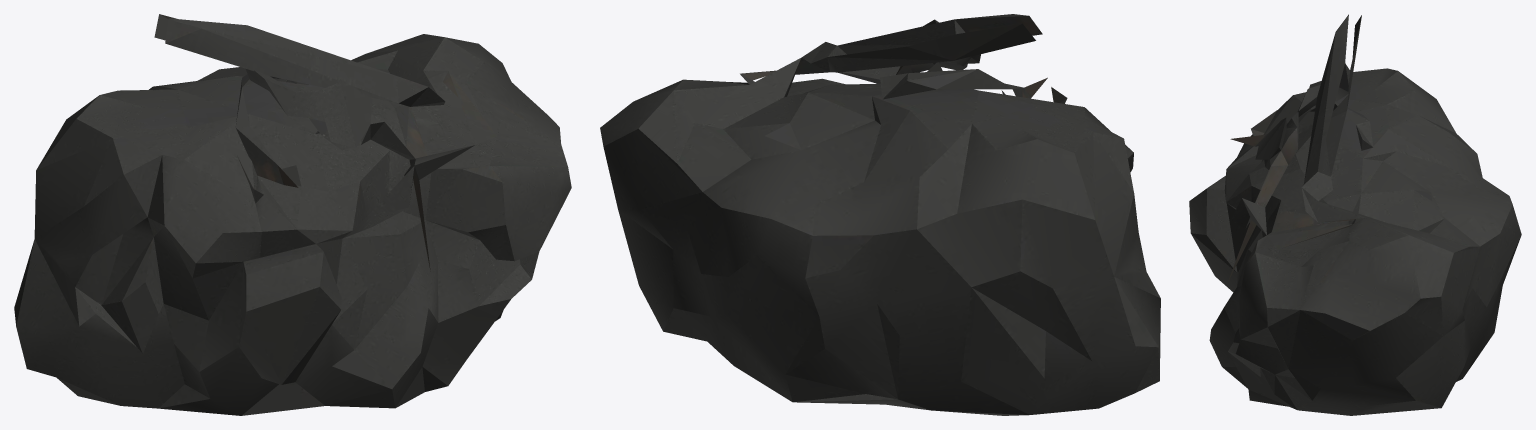
File: debris_rock.glb
3 renders of one model, left to right at view 1: azimuth 30°, elevation 25°; view 2: azimuth 150°, elevation 25°; view 3: azimuth 270°, elevation 25°, orthographic. The views are drawn at different scales.
Size of the model in its own units: 0.5822 by 0.4 by 0.3919.
Materials: 1 (1 with a texture image).
